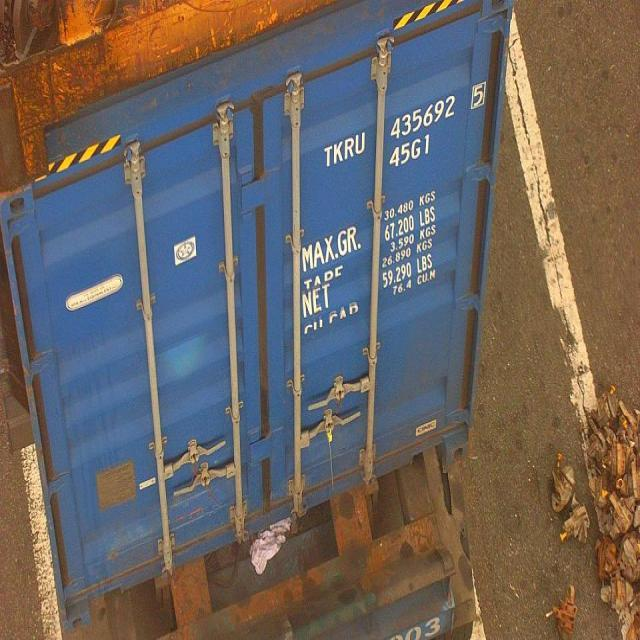ISO: (386, 134, 429, 176)
container_number: (322, 74, 490, 167)
